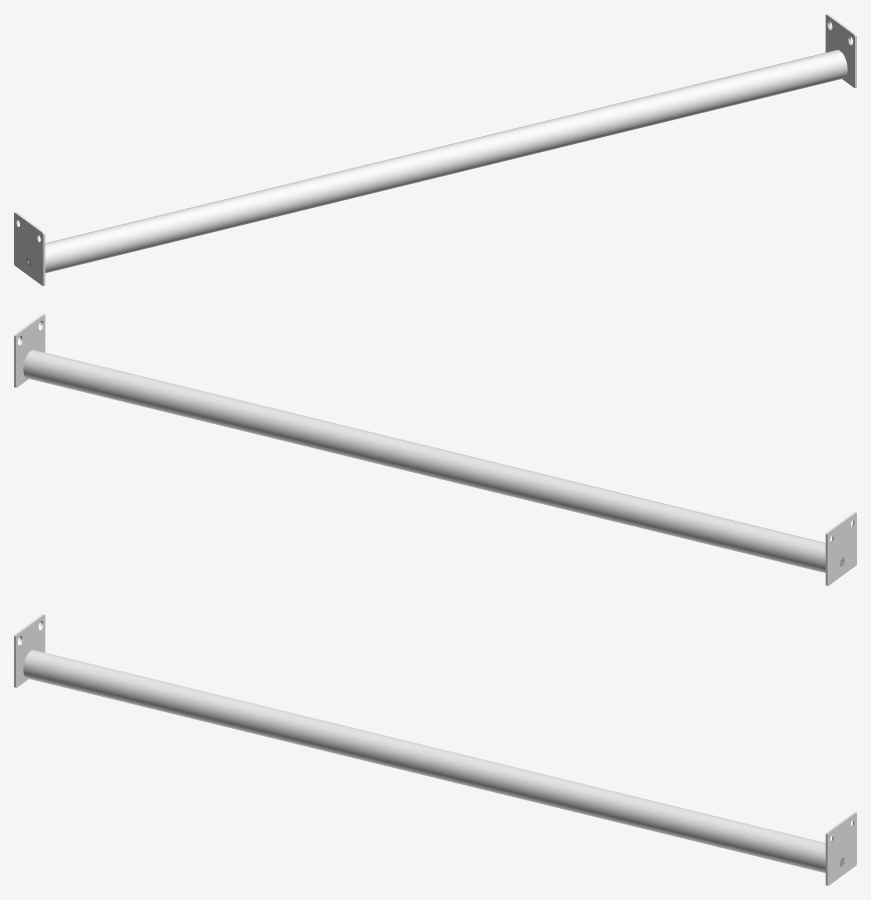
File: 13 - MITTZON - 活動式框架專用吊衣桿, 白色, 80 公分 IKEA 線上購物.glb
3 renders of one model, top to bottom at view 1: azimuth 30°, elevation 25°; view 2: azimuth 150°, elevation 25°; view 3: azimuth 330°, elevation 25°, orthographic.
Parts seen in each view (by area): view 1: 80528639-MITTZON001; view 2: 80528639-MITTZON001; view 3: 80528639-MITTZON001.
Part boxes in pixels (x1=…): 80528639-MITTZON001: x1=14, y1=14, x2=856, y2=285; 80528639-MITTZON001: x1=14, y1=314, x2=856, y2=585; 80528639-MITTZON001: x1=14, y1=614, x2=856, y2=885.
Bounding box in the file's own units: 0.8019 × 0.05 × 0.05.
Materials: 1 (1 with a texture image).
